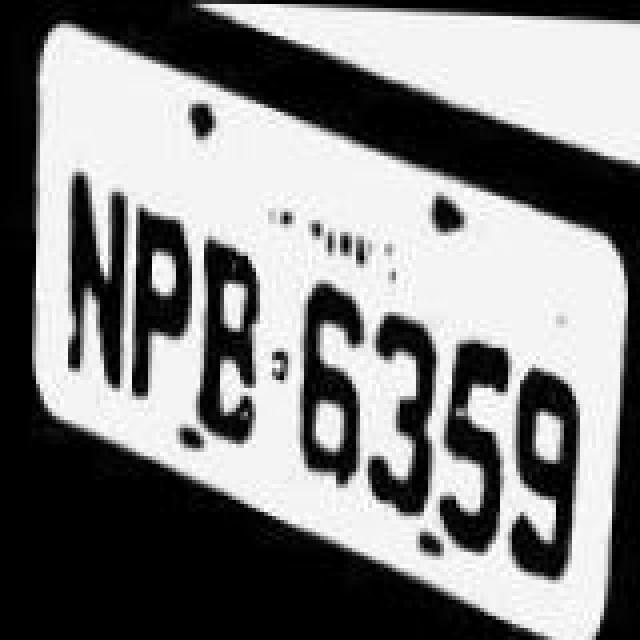3: (356, 288, 440, 524)
5: (426, 302, 510, 554)
6: (288, 270, 364, 506)
9: (496, 318, 584, 614)
B: (186, 216, 270, 444)
N: (50, 166, 130, 398)
P: (120, 154, 196, 422)
